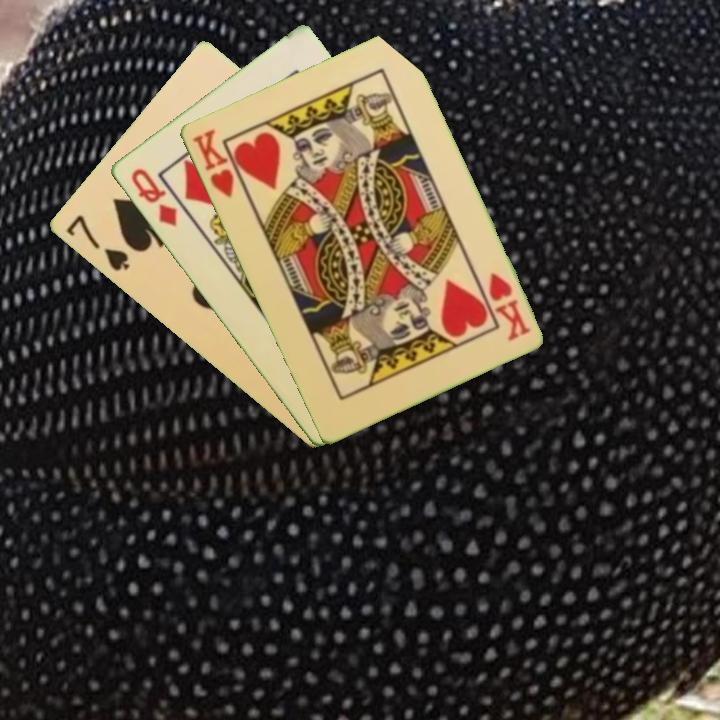7s: (61, 211, 132, 274)
Kh: (188, 125, 249, 201), (484, 268, 533, 344)
Qd: (126, 164, 180, 230)
